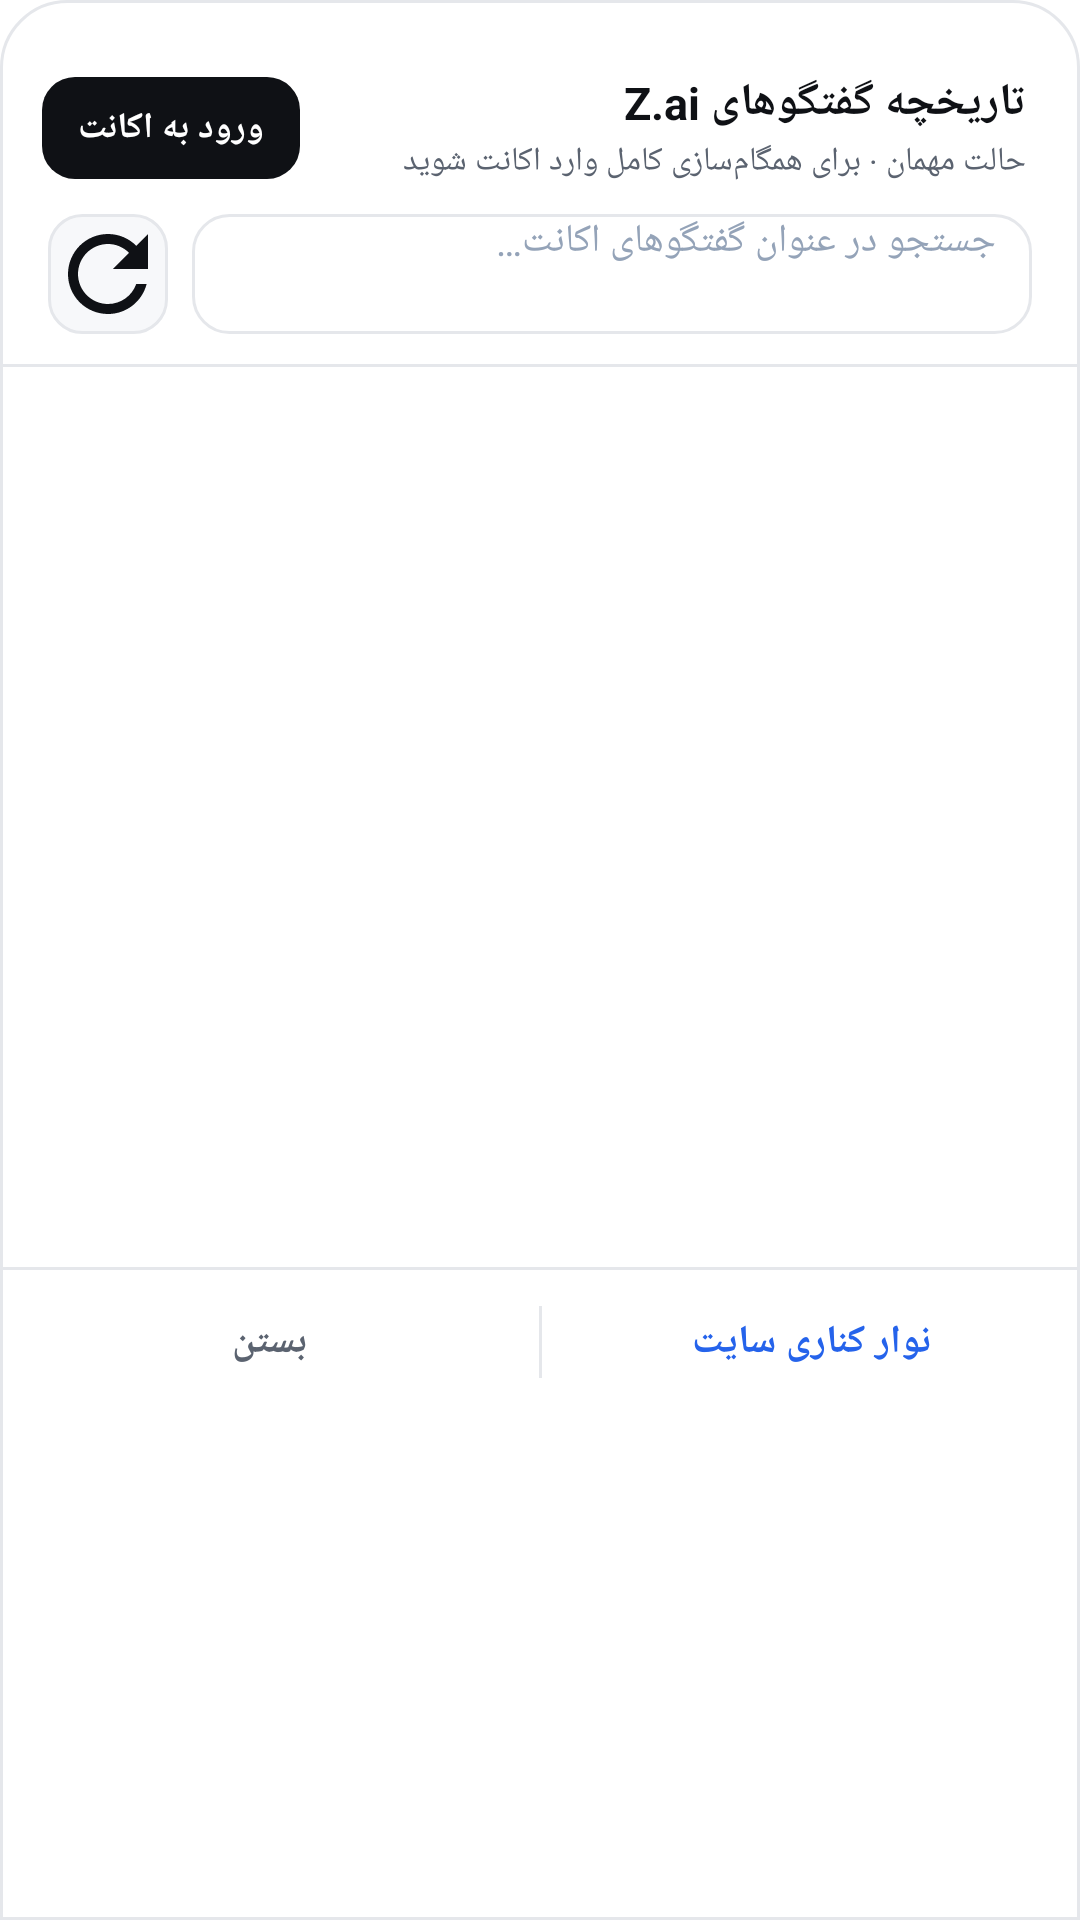

Named icons in this screenshot (1080w x 1920h) and their centers, (x,y):
بروزرسانی تاریخچه: (108,274)
